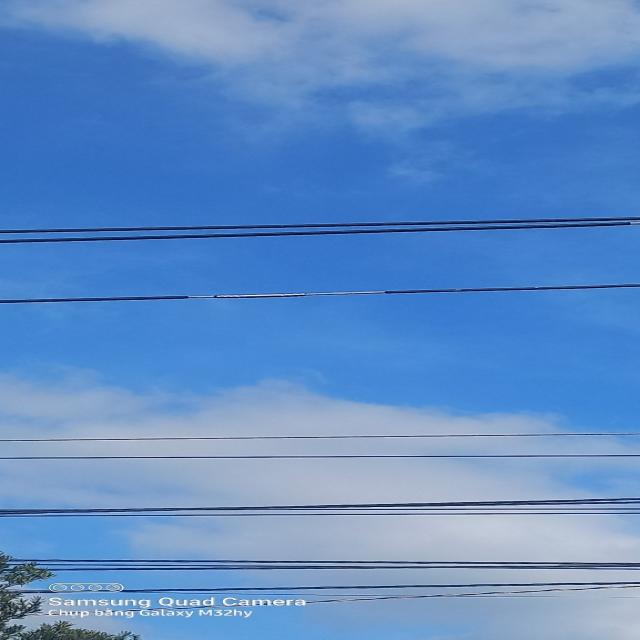wire: (30, 585, 638, 618), (1, 220, 639, 246), (1, 214, 640, 235), (1, 581, 639, 594), (0, 431, 640, 443), (6, 563, 640, 572), (1, 453, 640, 461), (7, 557, 640, 565), (145, 591, 640, 599), (0, 512, 640, 518), (301, 507, 640, 511)
